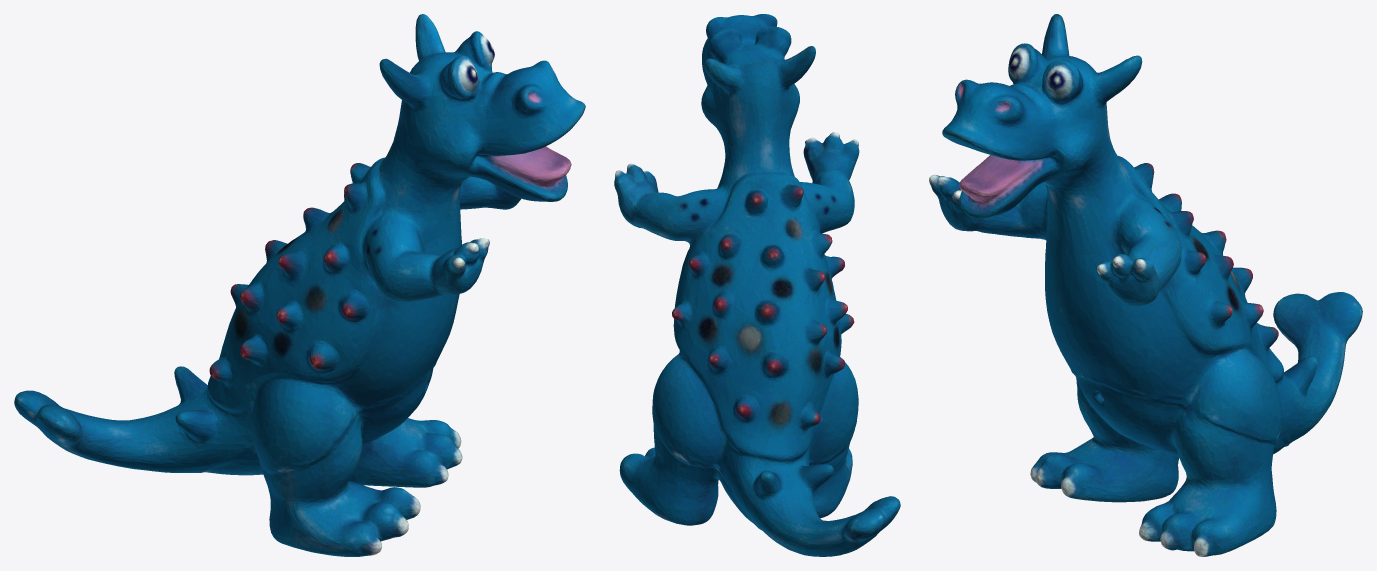
The model's file is 114226_dinomax100kpolygonen50prozvereinf-comp_-_exp-1.gltf.
3 renders of one model, left to right at view 1: azimuth 30°, elevation 25°; view 2: azimuth 150°, elevation 25°; view 3: azimuth 270°, elevation 25°, orthographic. The views are drawn at different scales.
Parts seen in each view (by area): view 1: 6944e8c5-8749-4540-8062-cfc5d7899869; view 2: 6944e8c5-8749-4540-8062-cfc5d7899869; view 3: 6944e8c5-8749-4540-8062-cfc5d7899869.
Part boxes in pixels (x1=…): 6944e8c5-8749-4540-8062-cfc5d7899869: x1=14, y1=14, x2=585, y2=556; 6944e8c5-8749-4540-8062-cfc5d7899869: x1=614, y1=14, x2=900, y2=556; 6944e8c5-8749-4540-8062-cfc5d7899869: x1=929, y1=14, x2=1362, y2=556.
Bounding box in the file's own units: 107 × 125 × 99.06.
1 material, 1 textured.
